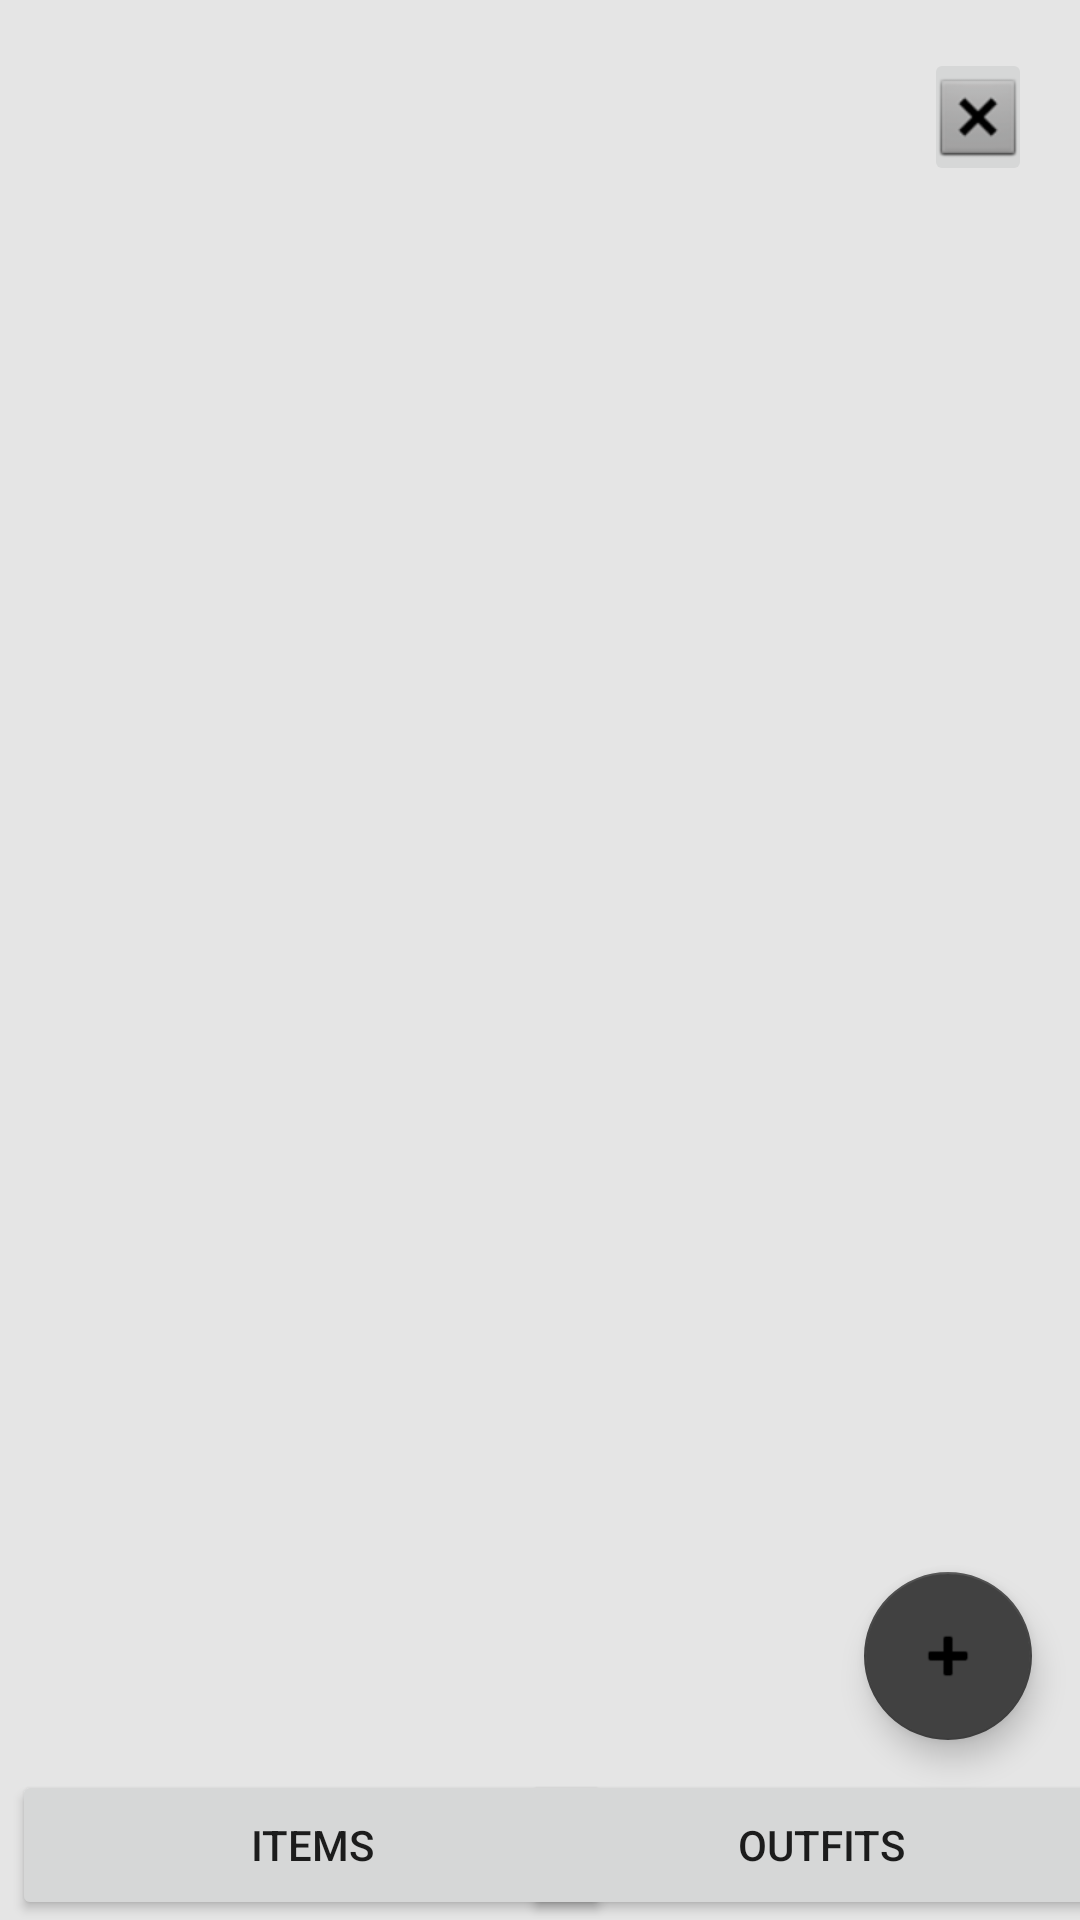

Point at icon controls on the screen. Image size 1080*1920, points as (x=x, y=y).
add: (x=948, y=1656)
